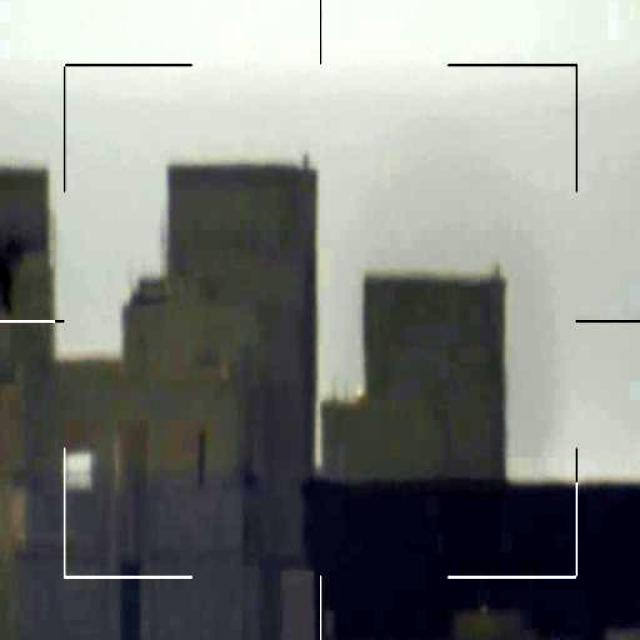bird: (0, 226, 38, 310)
